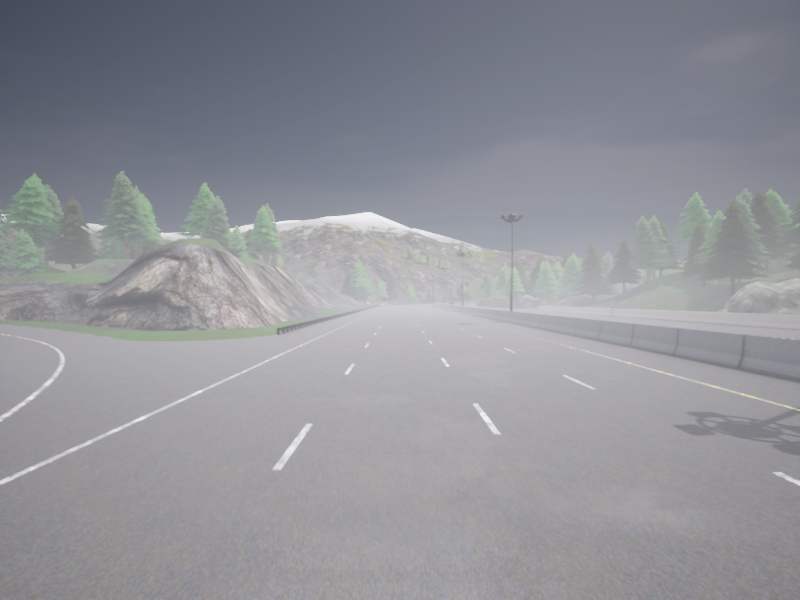vehicle: (461, 300, 467, 303), (450, 302, 454, 304)
